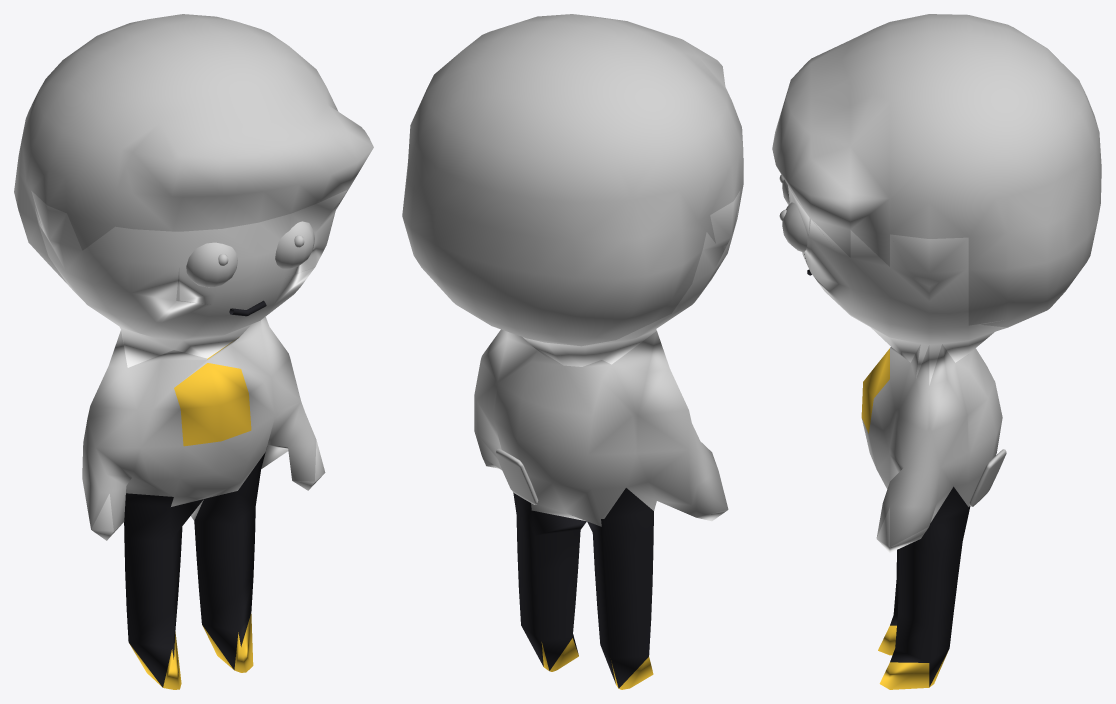
File: idol_boy_a_lod.fbx
3 views of the same model, side by side, from view 1: azimuth 30°, elevation 25°; view 2: azimuth 150°, elevation 25°; view 3: azimuth 270°, elevation 25° (orthographic). The views are drawn at different scales.
Parts seen in each view (by area): view 1: idol_boy_a_lod; view 2: idol_boy_a_lod; view 3: idol_boy_a_lod.
Part boxes in pixels (x1,y1,x2,y2): idol_boy_a_lod: (14, 14, 373, 689); idol_boy_a_lod: (402, 14, 743, 689); idol_boy_a_lod: (772, 14, 1101, 689).
Bounding box in the file's own units: 0.5782 × 1.22 × 0.5707.
